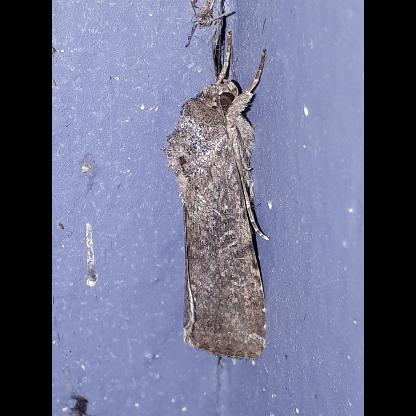Fall Armyworm Moth: (162, 28, 274, 364)
